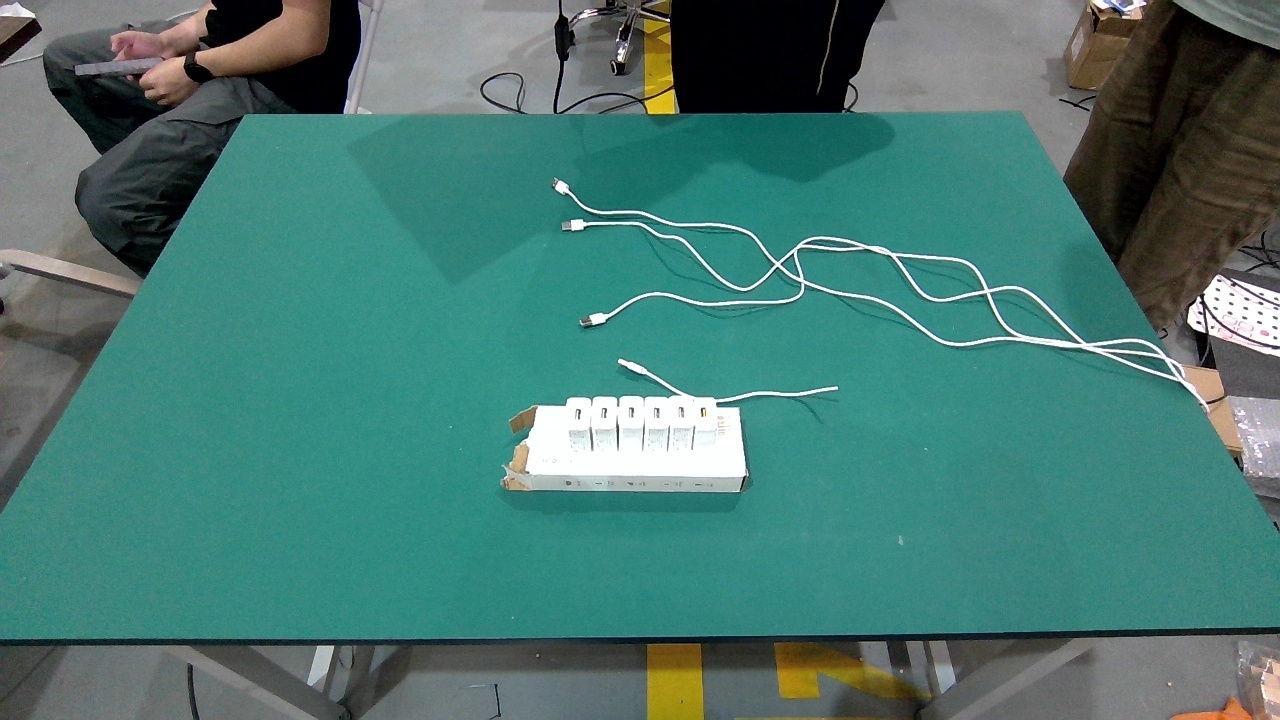usb_a_plug: (616, 356, 652, 378), (546, 174, 575, 199), (579, 310, 615, 327), (562, 218, 593, 231)
